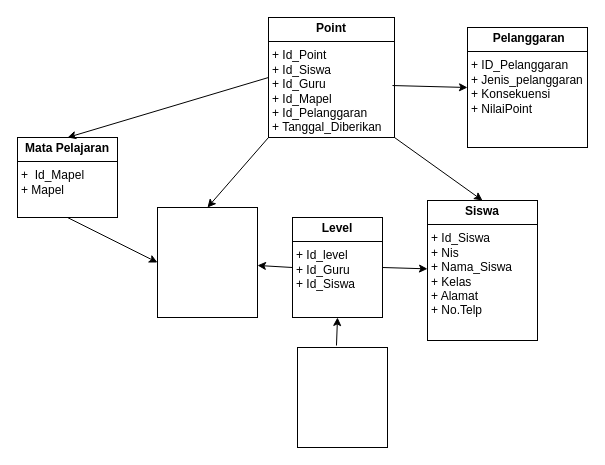
Some shapes in this 605 by 465 pixel diagram are drawn without their labels. Each missing label, with the centre of its shape:
Guru + Id_Guru + Nip + Nama_Guru + Id_Mapel + Jenis_kelamin: the point at 207,262
User + Id_User + Username + Password + Id_level: the point at 342,397
